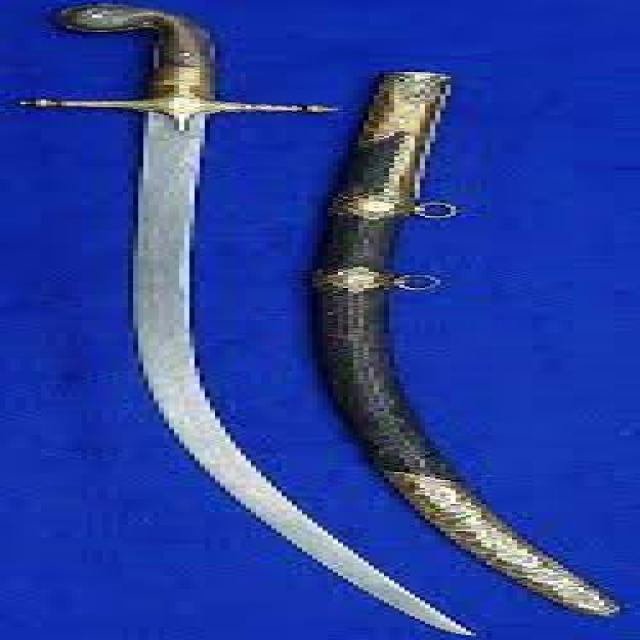long sword: (11, 0, 534, 640), (293, 62, 637, 624)
